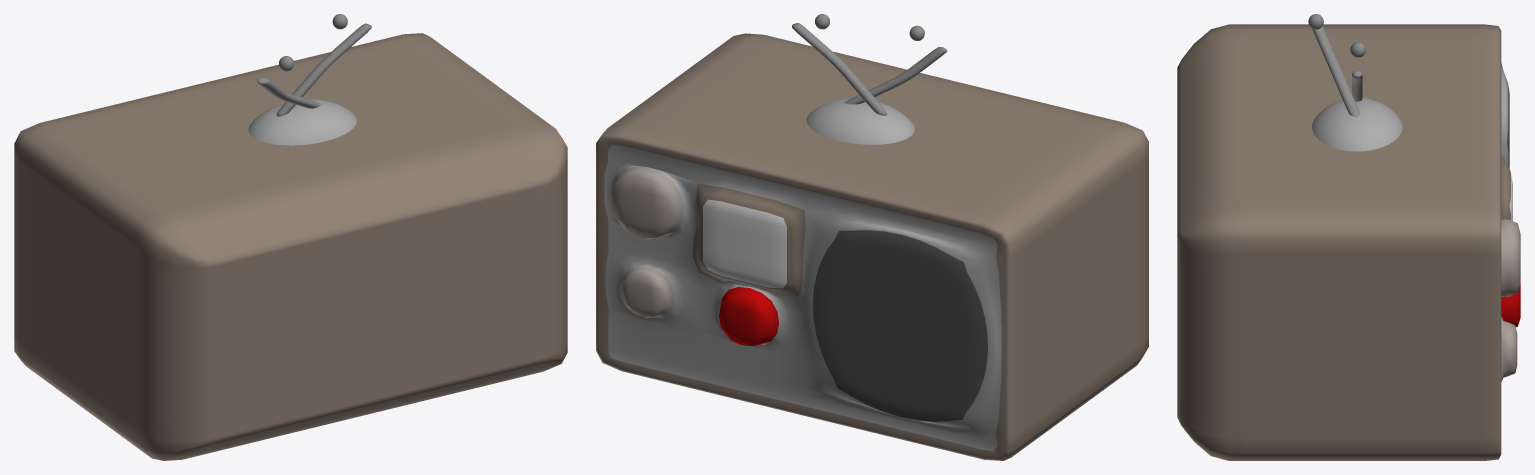
The model's file is radio.fbx.
3 renders of one model, left to right at view 1: azimuth 30°, elevation 25°; view 2: azimuth 150°, elevation 25°; view 3: azimuth 270°, elevation 25°, orthographic.
Visible parts, largest first — view 1: Radio, Antena_holder, Andena_left, Antena_Right; view 2: Radio, Antena_holder, Andena_left, Antena_Right; view 3: Radio, Antena_holder, Antena_Right.
Boxes of the visible parts, <box> form: Radio: <box>14,33,567,460</box>; Antena_holder: <box>248,99,356,145</box>; Andena_left: <box>276,23,371,116</box>; Antena_Right: <box>257,77,320,108</box>; Radio: <box>596,33,1148,460</box>; Antena_holder: <box>806,98,914,144</box>; Andena_left: <box>792,23,886,115</box>; Antena_Right: <box>844,47,947,104</box>; Radio: <box>1177,24,1520,460</box>; Antena_holder: <box>1312,98,1402,151</box>; Antena_Right: <box>1312,26,1359,117</box>.
Bounding box in the file's own units: 8.86 × 6.9 × 6.2.
